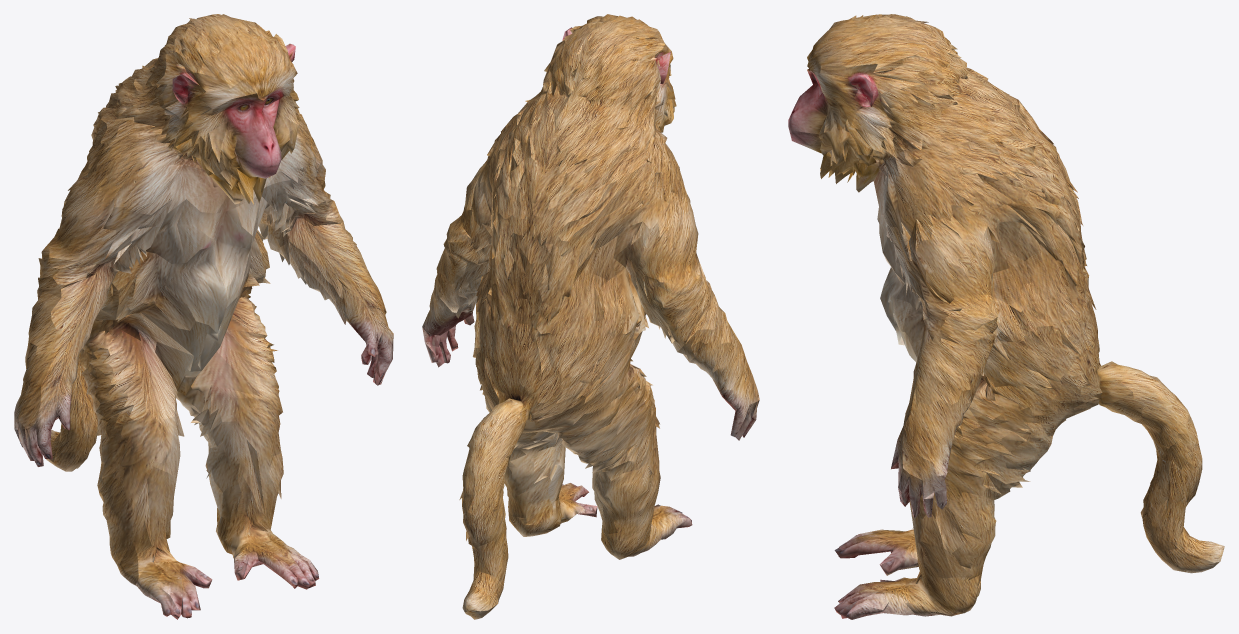
The model's file is low_poly_monkey_animal_3d_model_free.glb.
The picture shows the model from 3 angles, left to right: view 1: azimuth 30°, elevation 25°; view 2: azimuth 150°, elevation 25°; view 3: azimuth 270°, elevation 25°; orthographic projection. The views are drawn at different scales.
Visible parts, largest first — view 1: Object_4; view 2: Object_4; view 3: Object_4.
Part boxes in pixels (x1,y1,x2,y2): Object_4: (14,14,393,619); Object_4: (422,14,759,619); Object_4: (788,14,1224,619).
Size of the model in its own units: 1.3 by 1.9 by 1.33.
Materials: 1 (1 with a texture image).
